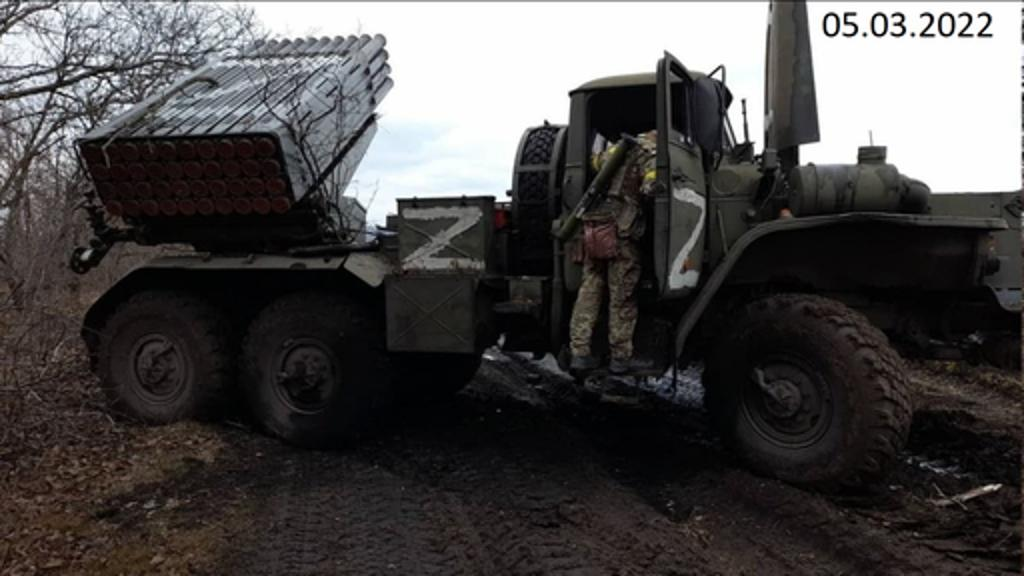MLRS: (74, 30, 1000, 484)
